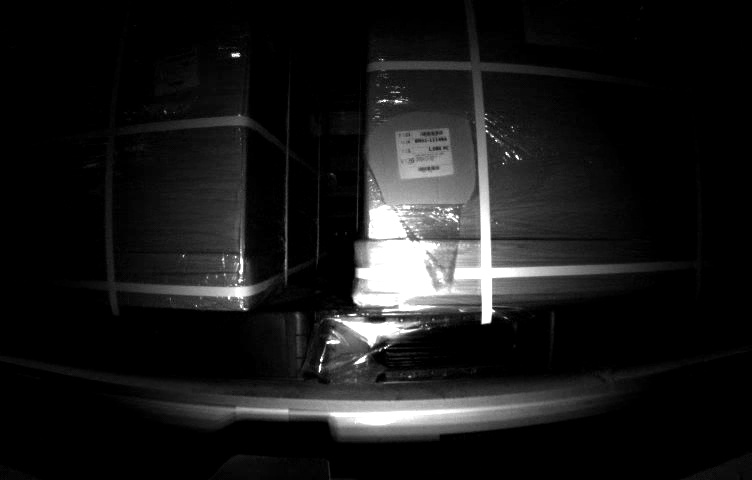True Barcode: (392, 126, 456, 178)
